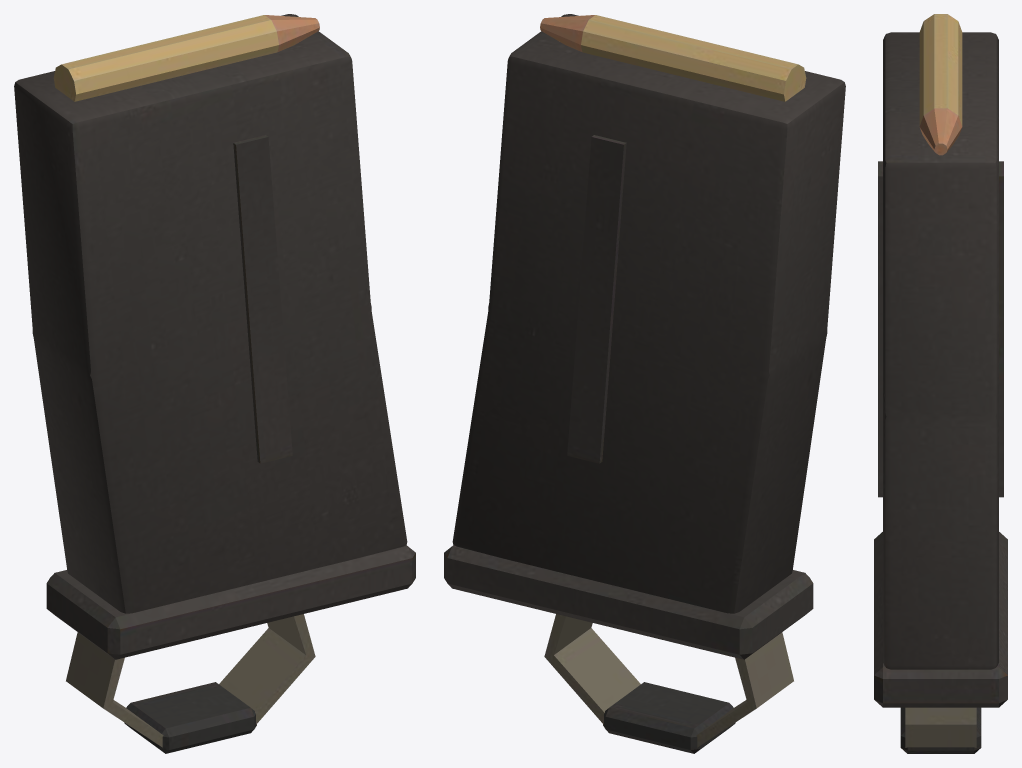
The model's file is quickpull_clip.glb.
3 renders of one model, left to right at view 1: azimuth 30°, elevation 25°; view 2: azimuth 150°, elevation 25°; view 3: azimuth 270°, elevation 25°, orthographic. The views are drawn at different scales.
Visible parts, largest first — view 1: quickpull_clip; view 2: quickpull_clip; view 3: quickpull_clip.
Boxes of the visible parts, left/top/right/bottom form: quickpull_clip: left=14, top=14, right=415, bottom=753; quickpull_clip: left=444, top=14, right=845, bottom=753; quickpull_clip: left=874, top=14, right=1007, bottom=753.
Size of the model in its own units: 0.0849 by 0.1636 by 0.03.
1 material, 1 textured.
